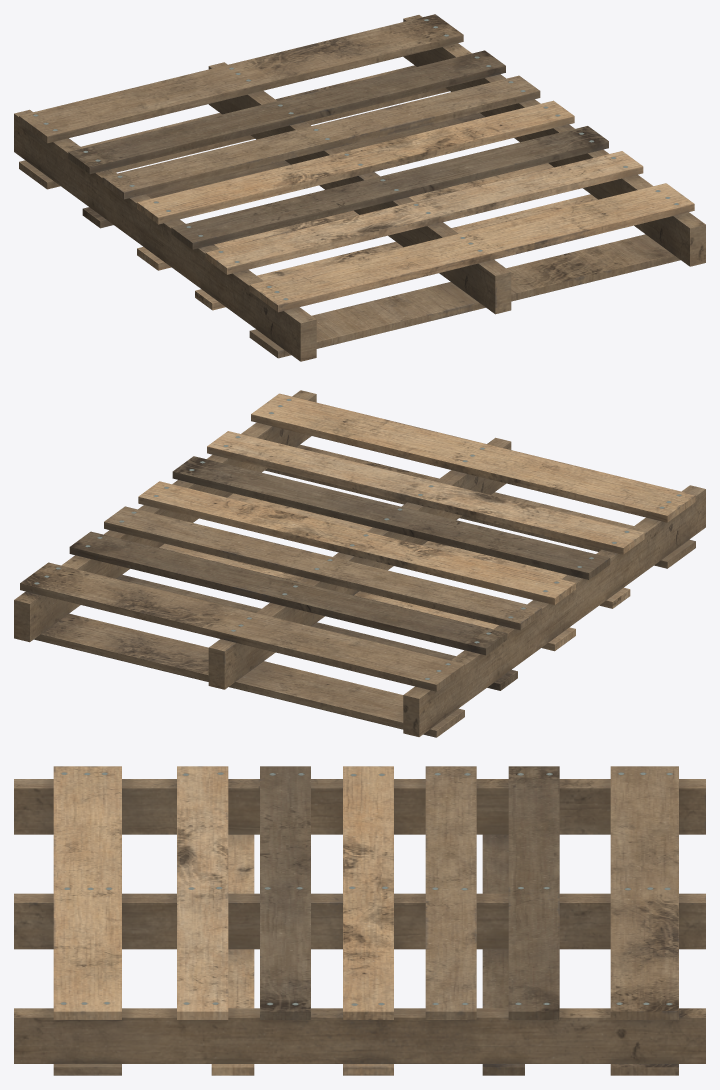
File: wood3.glb
3 renders of one model, top to bottom at view 1: azimuth 30°, elevation 25°; view 2: azimuth 150°, elevation 25°; view 3: azimuth 270°, elevation 25°, orthographic. The views are drawn at different scales.
Parts seen in each view (by area): view 1: pCube27_Pallet_0; view 2: pCube27_Pallet_0; view 3: pCube27_Pallet_0.
Part boxes in pixels (box(x1,y1,x2,y2)): pCube27_Pallet_0: box(14, 14, 705, 361); pCube27_Pallet_0: box(14, 390, 705, 737); pCube27_Pallet_0: box(14, 766, 705, 1075).
Size of the model in its own units: 1.46 by 0.1773 by 1.74.
Materials: 1 (1 with a texture image).
